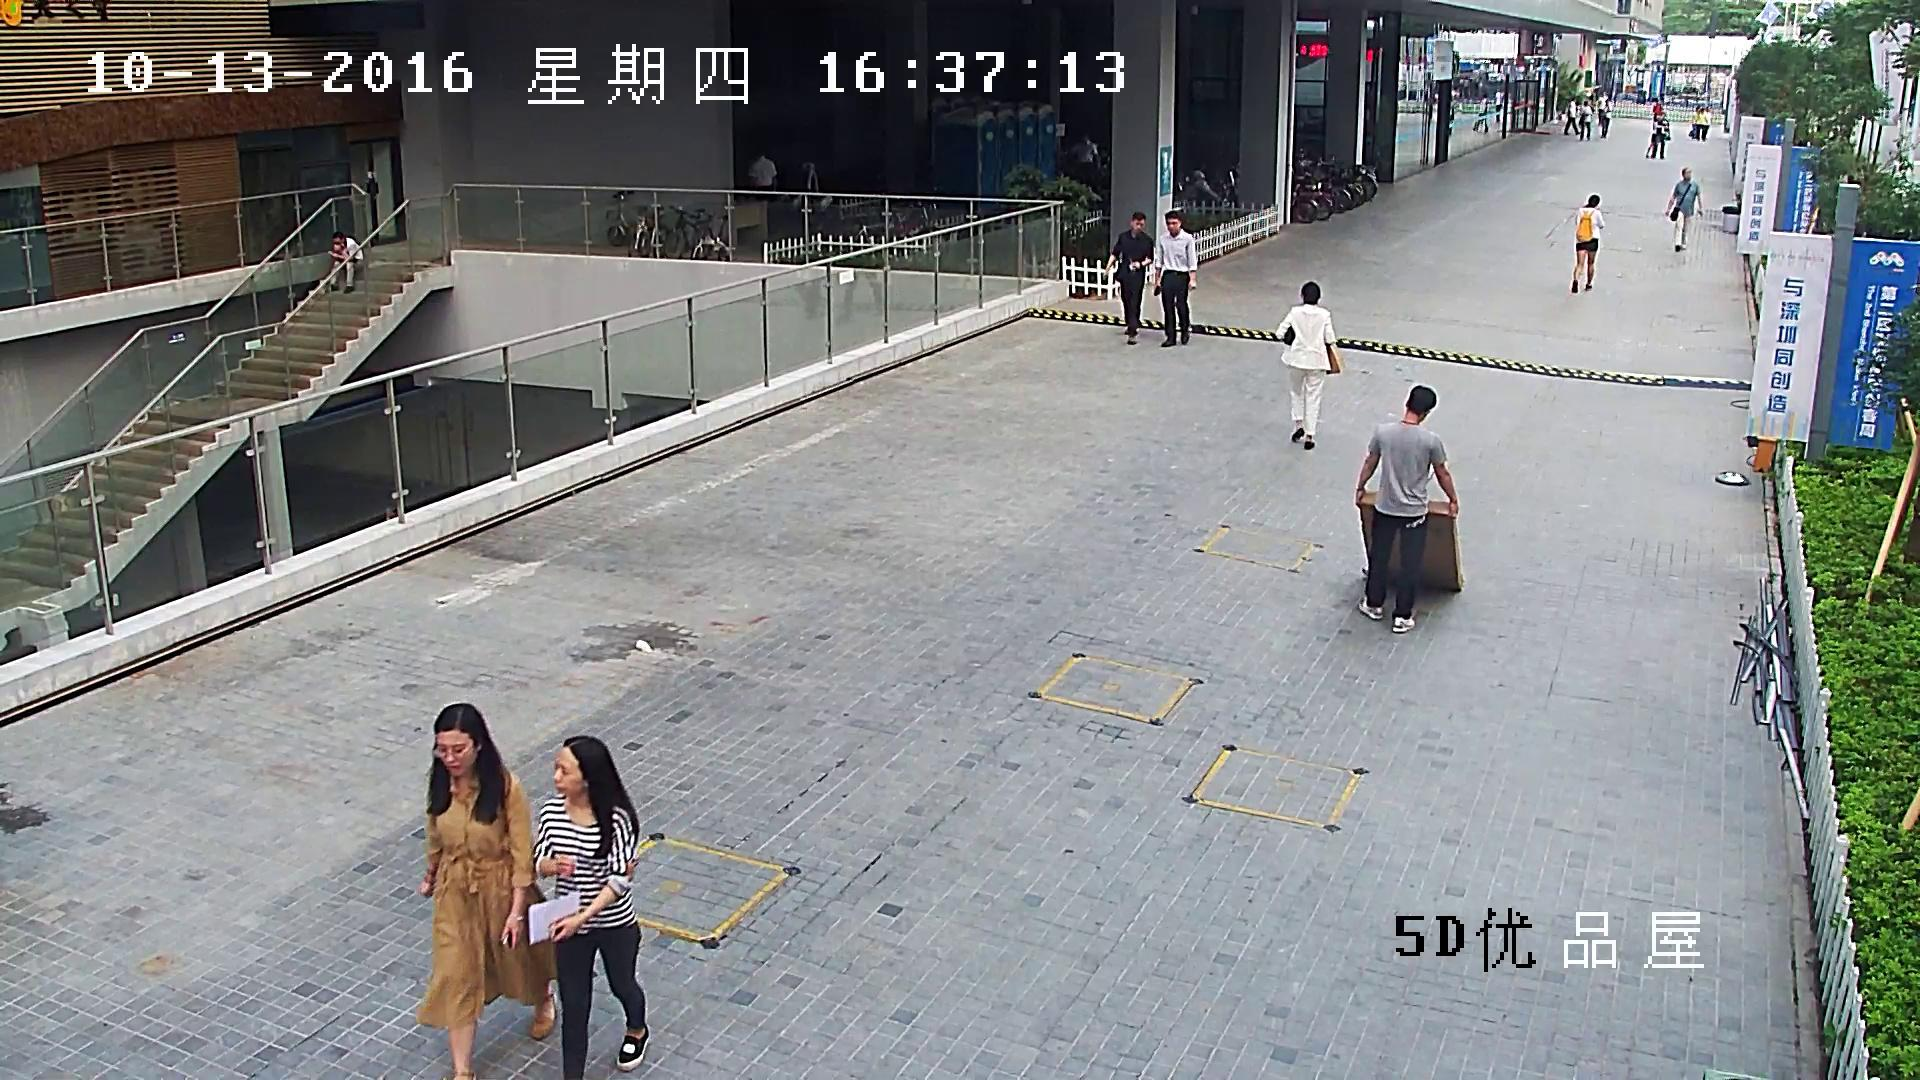person: (414, 700, 558, 1080), (527, 736, 652, 1080), (1355, 384, 1464, 633), (1355, 385, 1458, 633), (1275, 281, 1341, 450), (1105, 211, 1154, 343), (1153, 211, 1198, 346), (1571, 194, 1604, 293), (1664, 167, 1703, 251), (326, 232, 363, 292), (1071, 136, 1100, 188), (747, 154, 777, 191), (1471, 95, 1488, 132), (1564, 97, 1580, 135), (1578, 100, 1592, 140), (1600, 100, 1611, 138), (1696, 108, 1708, 142), (1597, 91, 1608, 125), (1652, 100, 1663, 130), (1494, 91, 1500, 122)
